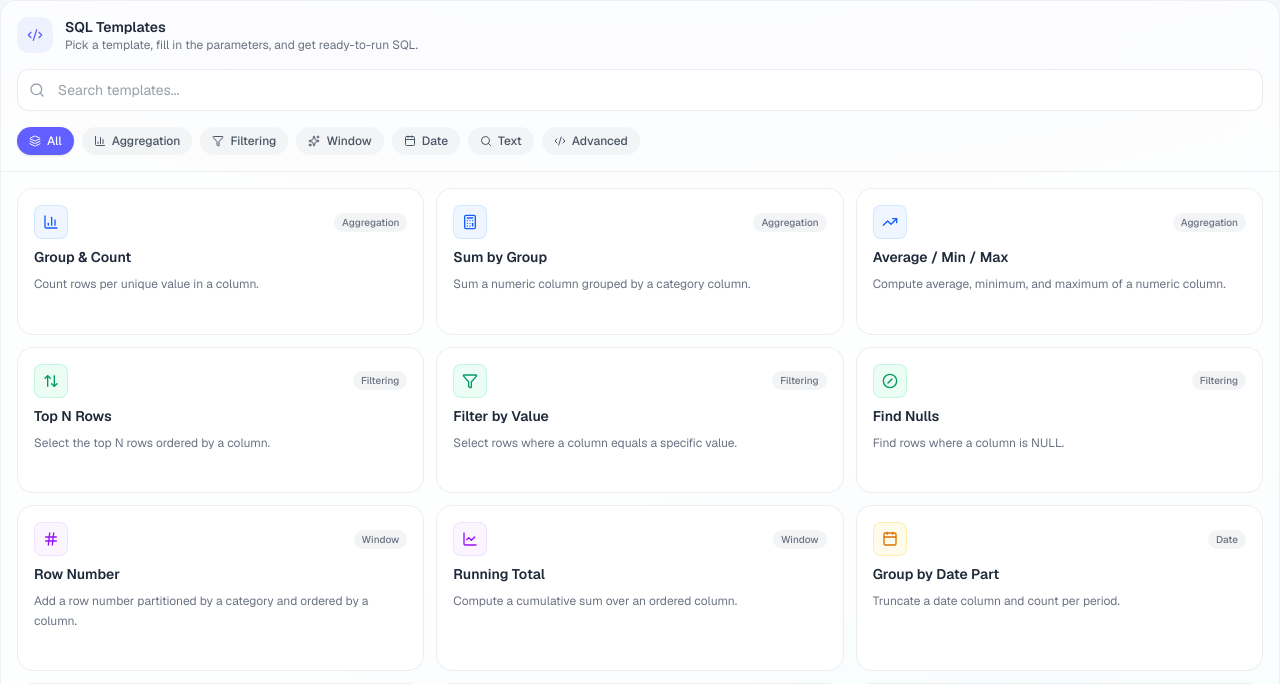
Test case: TemplatePicker › filters templates down to an empty state
Type "missing template" into the field with placeholder "Search templates..." at (640, 90), box [17,69,1263,111]
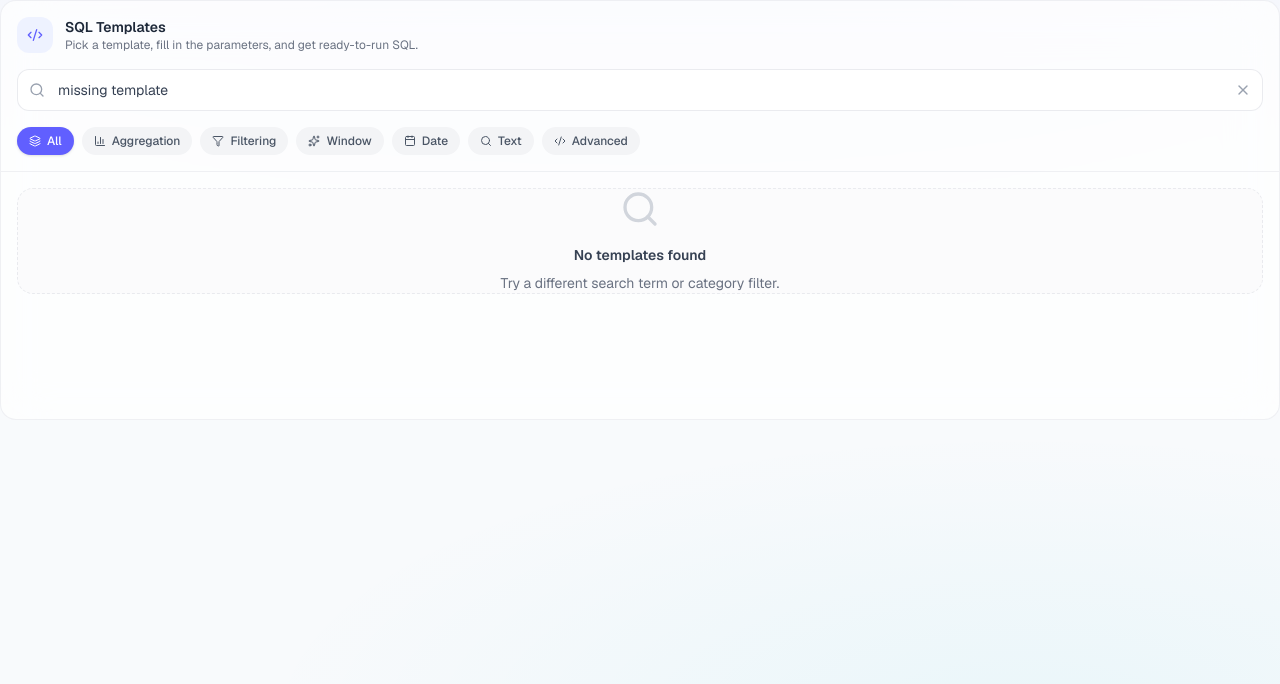
Expected: the heading "No templates found" is shown, [574,245,706,265]
